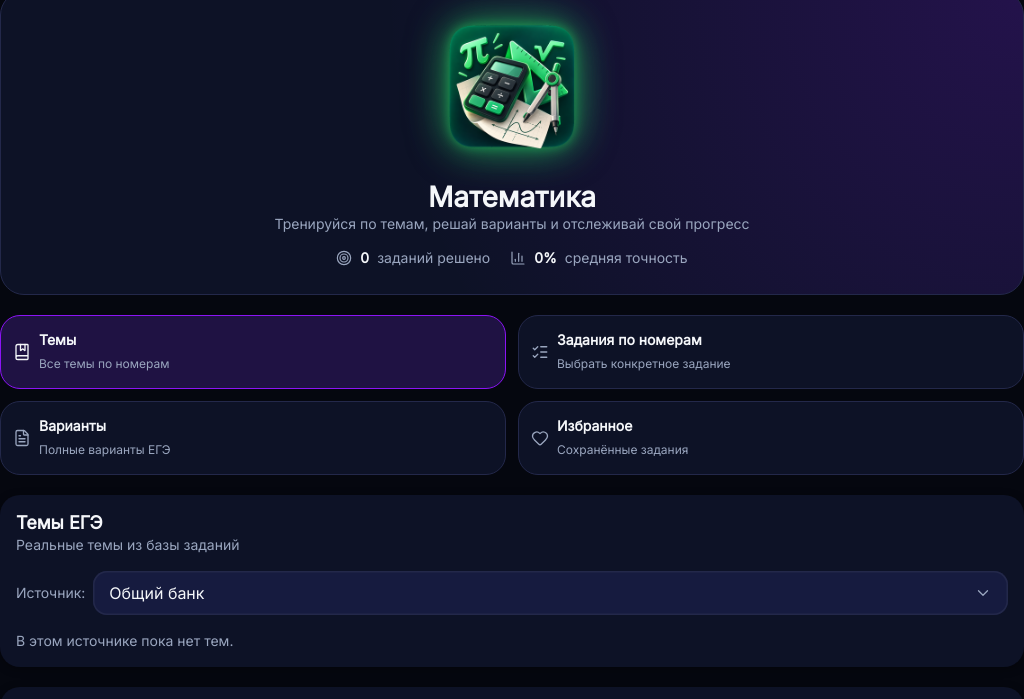
SubjectDesktop — Задания по номерам tab (audit: the tab that went missing) › navigates to the dedicated TrainingByNumber screen, carrying subject/collection/from — not an inline block
What coordinates should you click on to do the following:
click the text "Задания по номерам"
I would click on:
 (629, 340)
Its box is [557,331,702,348].
(page scrolled)
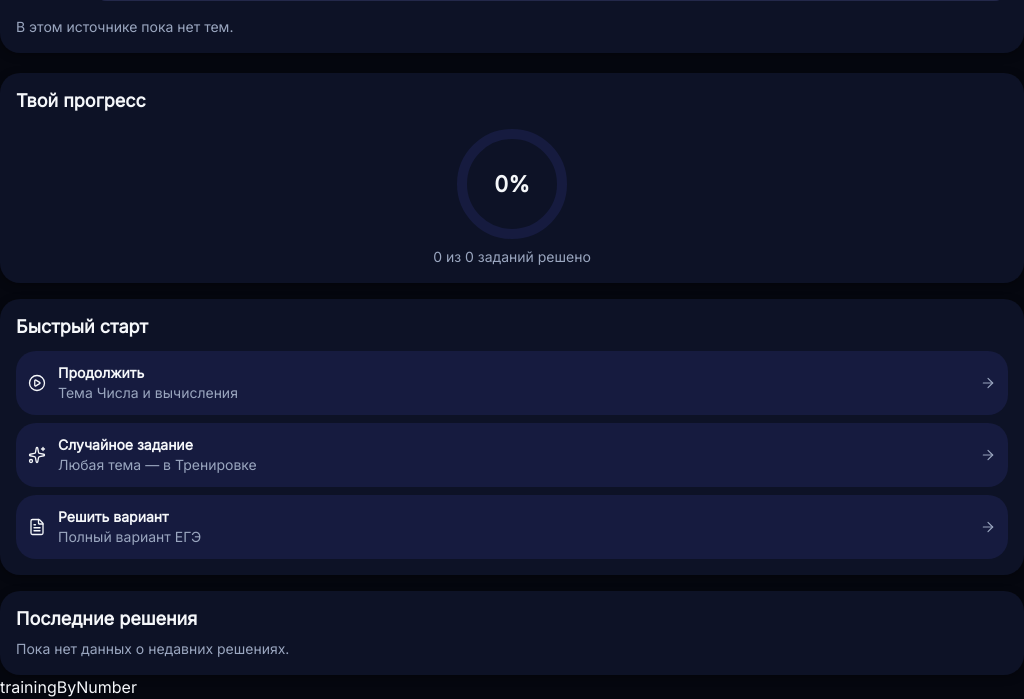
Result: the text with test id "overlay" reads "trainingByNumber" at [0,677,137,697]
